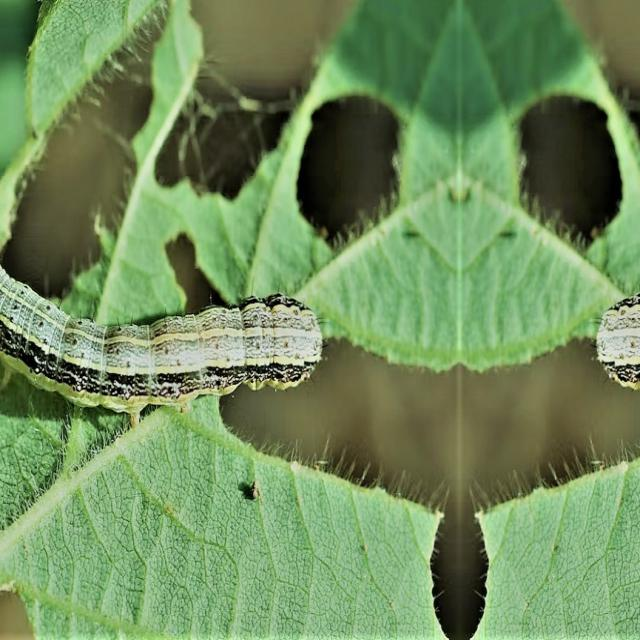Armyworm: (1, 224, 341, 447)
Armyworm_damage: (8, 1, 190, 298), (273, 70, 429, 279), (497, 48, 627, 260), (418, 462, 519, 640)
